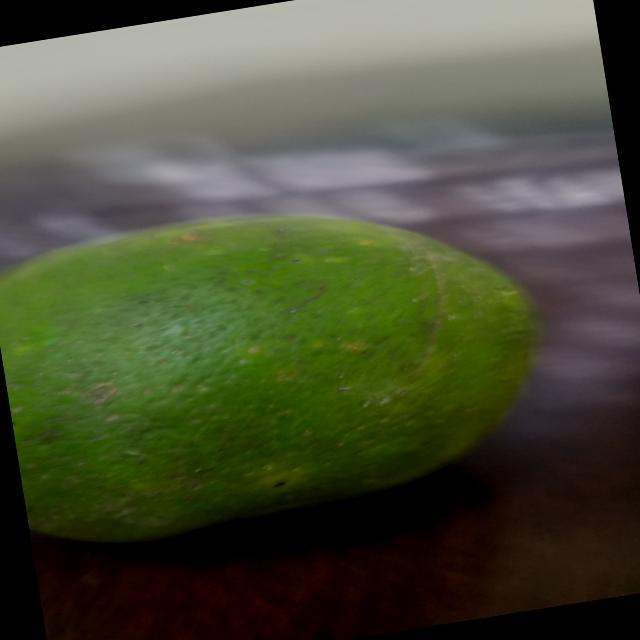Unripe: (0, 154, 550, 560)
